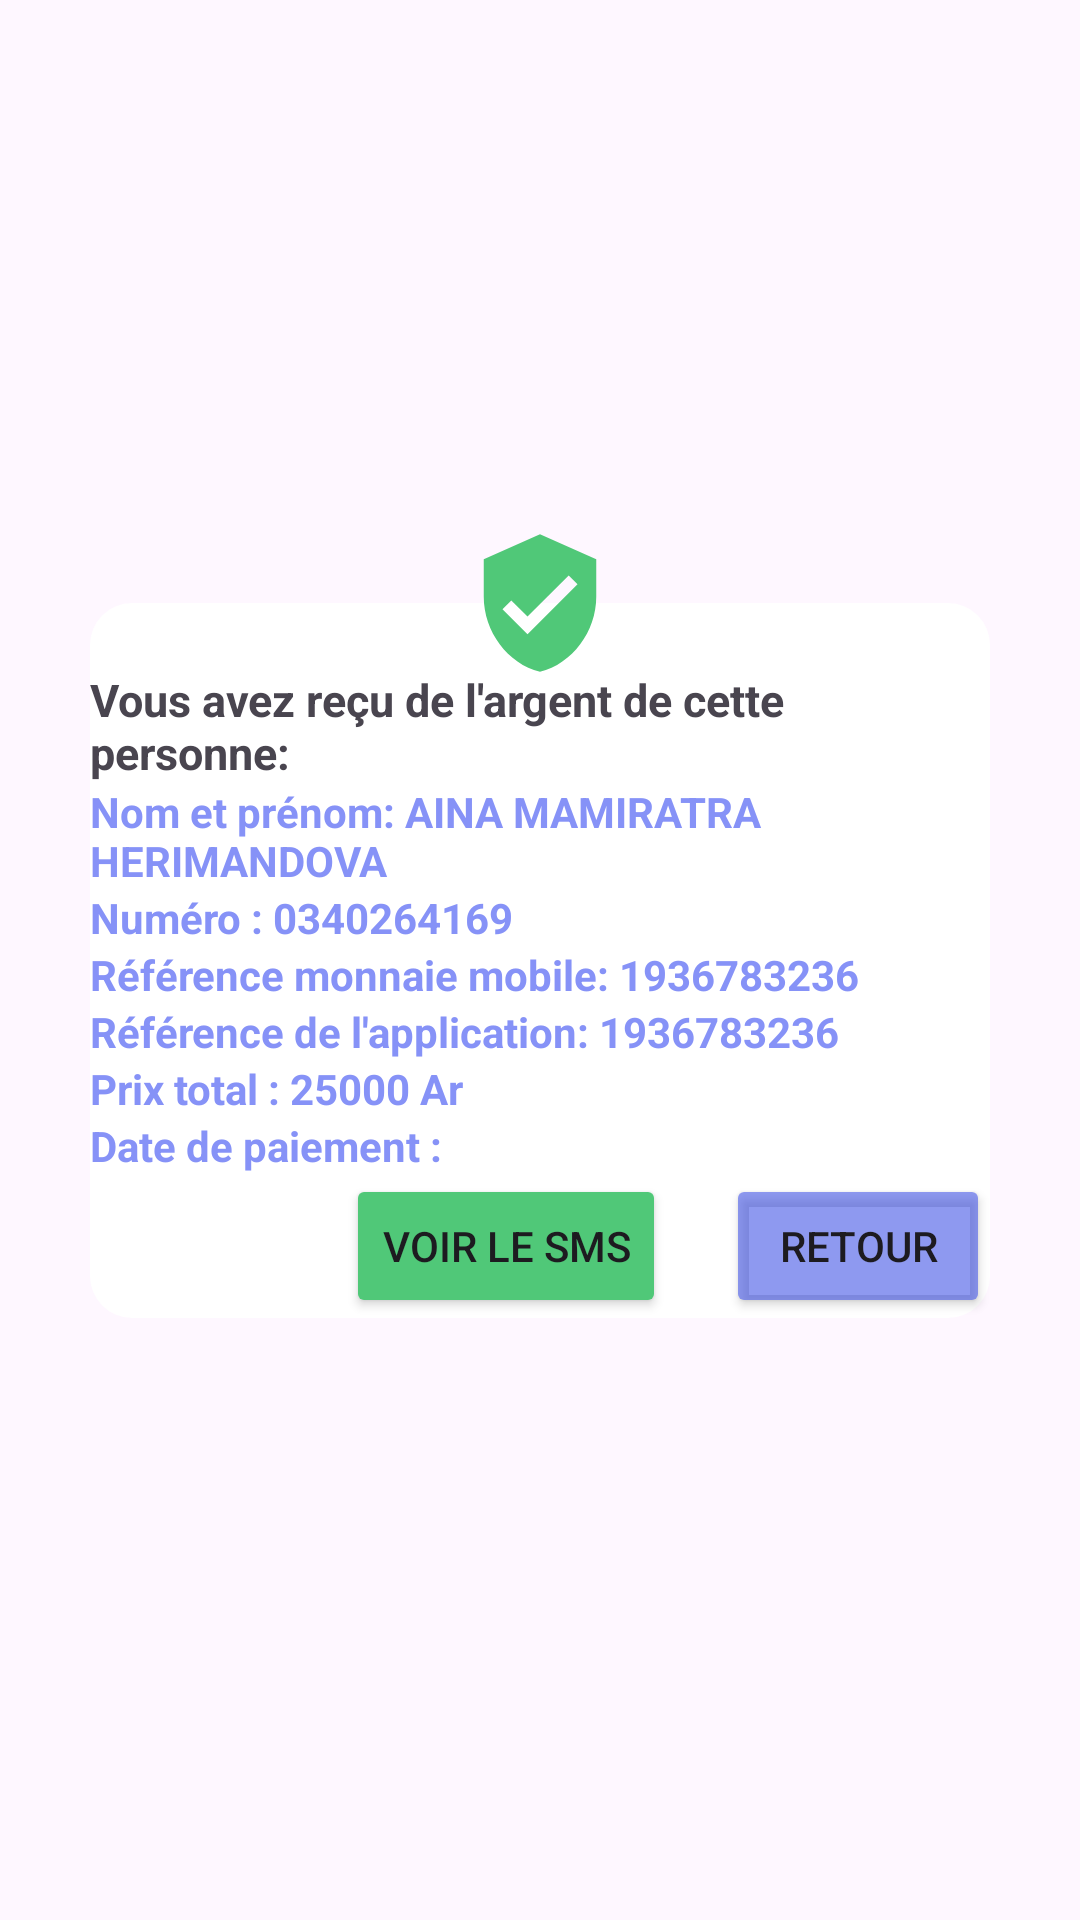

Icons on this 1080 × 1920 Android screen, each with its box as (x1, y1, x2, y2):
okok: (483, 534, 597, 672)
